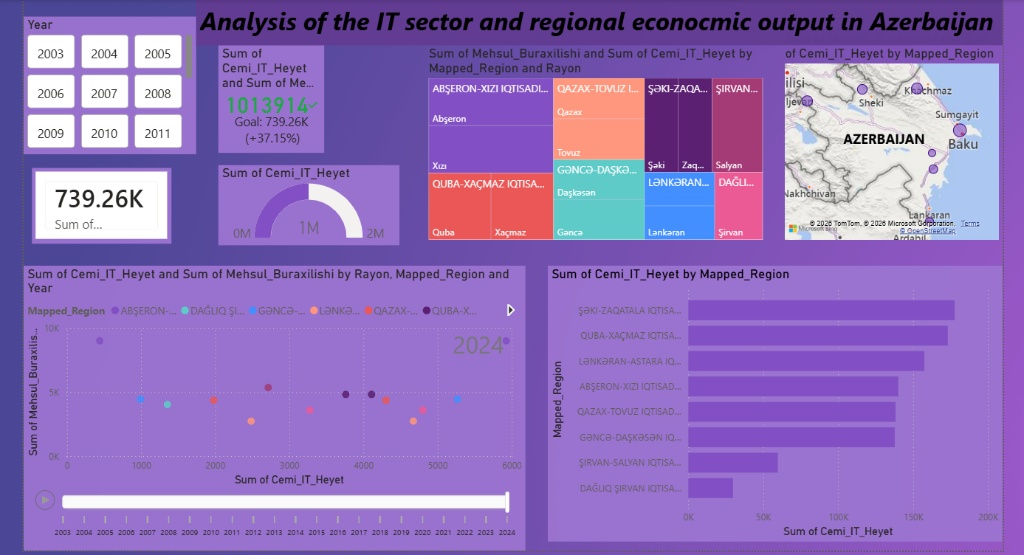

What the dashboard file says about the page in this screenshot:
{"tool":"powerbi","page":{"name":"Page 7","canvas":[1280,720],"ordinal":0},"visuals":[{"type":"advancedSlicerVisual","fields":{"Values":["final_analyzed_data_v3.Year"]},"box":[0,21.7,225.6,179.8],"z":0},{"type":"map","fields":{"Category":["final_analyzed_data_v3.Mapped_Region"],"Size":["Sum(final_analyzed_data_v3.Mehsul_Buraxilishi)"]},"box":[990.5,39.8,289.5,278.7],"z":1},{"type":"scatterChart","fields":{"Category":["final_analyzed_data_v3.Rayon"],"X":["Sum(final_analyzed_data_v3.Cemi_IT_Heyet)"],"Y":["Sum(final_analyzed_data_v3.Mehsul_Buraxilishi)"],"Series":["final_analyzed_data_v3.Mapped_Region"],"Play":["final_analyzed_data_v3.Year"]},"box":[0,347.5,656.3,372.8],"z":2},{"type":"treemap","fields":{"Group":["final_analyzed_data_v3.Mapped_Region"],"Details":["final_analyzed_data_v3.Rayon"],"Values":["Sum(final_analyzed_data_v3.Mehsul_Buraxilishi)"]},"box":[524.8,59.1,446.4,259.4],"z":3},{"type":"gauge","fields":{"Y":["Sum(final_analyzed_data_v3.Cemi_IT_Heyet)"]},"box":[254.6,216,236.5,105],"z":4},{"type":"cardVisual","fields":{"Data":["Sum(final_analyzed_data_v3.Mehsul_Buraxilishi)"]},"box":[10.9,219.6,182.2,98.9],"z":5},{"type":"clusteredBarChart","fields":{"Category":["final_analyzed_data_v3.Mapped_Region"],"Y":["Sum(final_analyzed_data_v3.Cemi_IT_Heyet)"]},"box":[685.3,347.5,594.8,360.7],"z":6},{"type":"kpi","fields":{"Indicator":["Sum(final_analyzed_data_v3.Cemi_IT_Heyet)"],"TrendLine":["final_analyzed_data_v3.Kredit_Hecmi"],"Goal":["Sum(final_analyzed_data_v3.Mehsul_Buraxilishi)"]},"box":[254.6,59.1,138.7,141.2],"z":7},{"type":"textbox","box":[225.6,0,1054.4,59.1],"z":8}]}

Visuals, with their boxes on the page's 1280x720 design canvas (x1, y1, x2, y2). These are canvas units, not pixel positions in the 1024x555 screenshot, which may show the page scaled, cropped or inside an application window:
advancedSlicerVisual - final_analyzed_data_v3.Year: left=0, top=22, right=226, bottom=202
map - final_analyzed_data_v3.Mapped_Region x Sum(final_analyzed_data_v3.Mehsul_Buraxilishi): left=990, top=40, right=1280, bottom=318
scatterChart - final_analyzed_data_v3.Rayon x Sum(final_analyzed_data_v3.Cemi_IT_Heyet): left=0, top=348, right=656, bottom=720
treemap - final_analyzed_data_v3.Mapped_Region x final_analyzed_data_v3.Rayon: left=525, top=59, right=971, bottom=318
gauge - Sum(final_analyzed_data_v3.Cemi_IT_Heyet): left=255, top=216, right=491, bottom=321
cardVisual - Sum(final_analyzed_data_v3.Mehsul_Buraxilishi): left=11, top=220, right=193, bottom=318
clusteredBarChart - final_analyzed_data_v3.Mapped_Region x Sum(final_analyzed_data_v3.Cemi_IT_Heyet): left=685, top=348, right=1280, bottom=708
kpi - Sum(final_analyzed_data_v3.Cemi_IT_Heyet) x final_analyzed_data_v3.Kredit_Hecmi: left=255, top=59, right=393, bottom=200
textbox: left=226, top=0, right=1280, bottom=59
